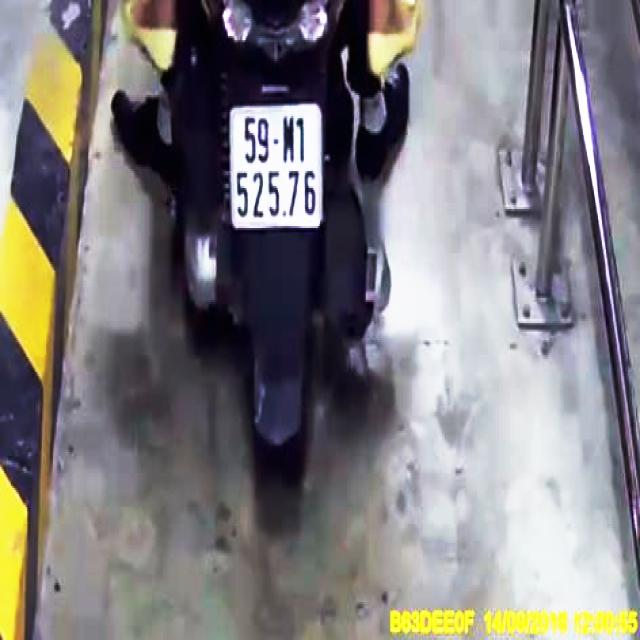license_plate: (235, 105, 320, 225)
